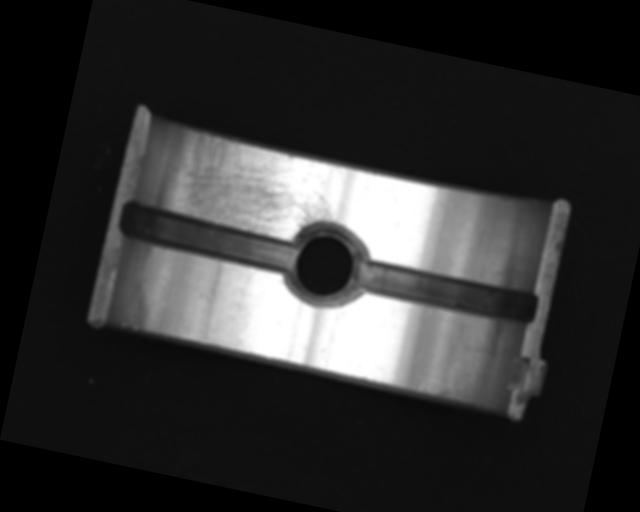gap: (115, 200, 302, 276), (353, 254, 540, 328)
hole: (279, 217, 374, 314)
scratch: (160, 126, 346, 249)
